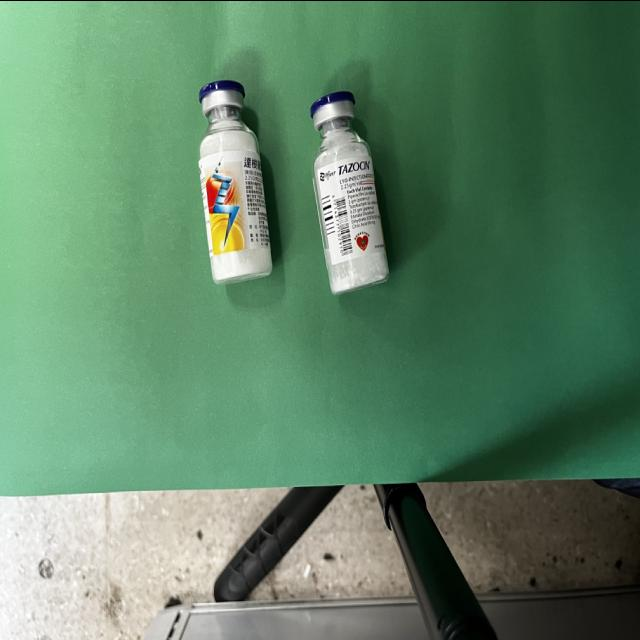Vials: (310, 91, 388, 294), (198, 79, 273, 283)
